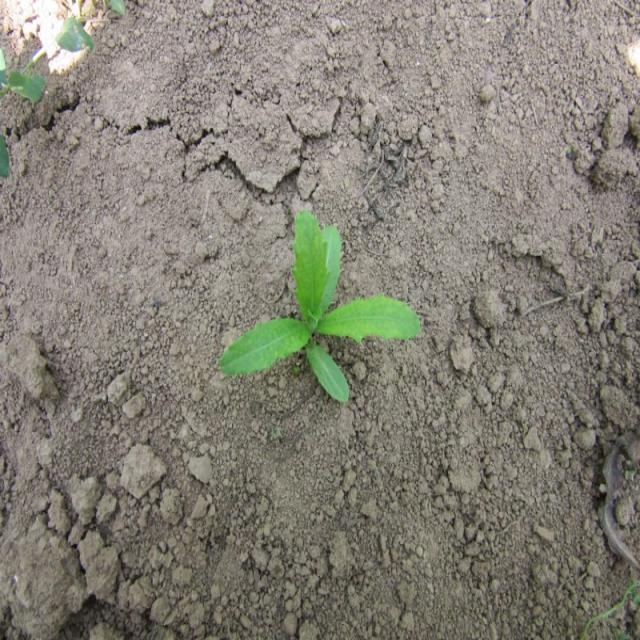field_thistle: (194, 208, 416, 421)
